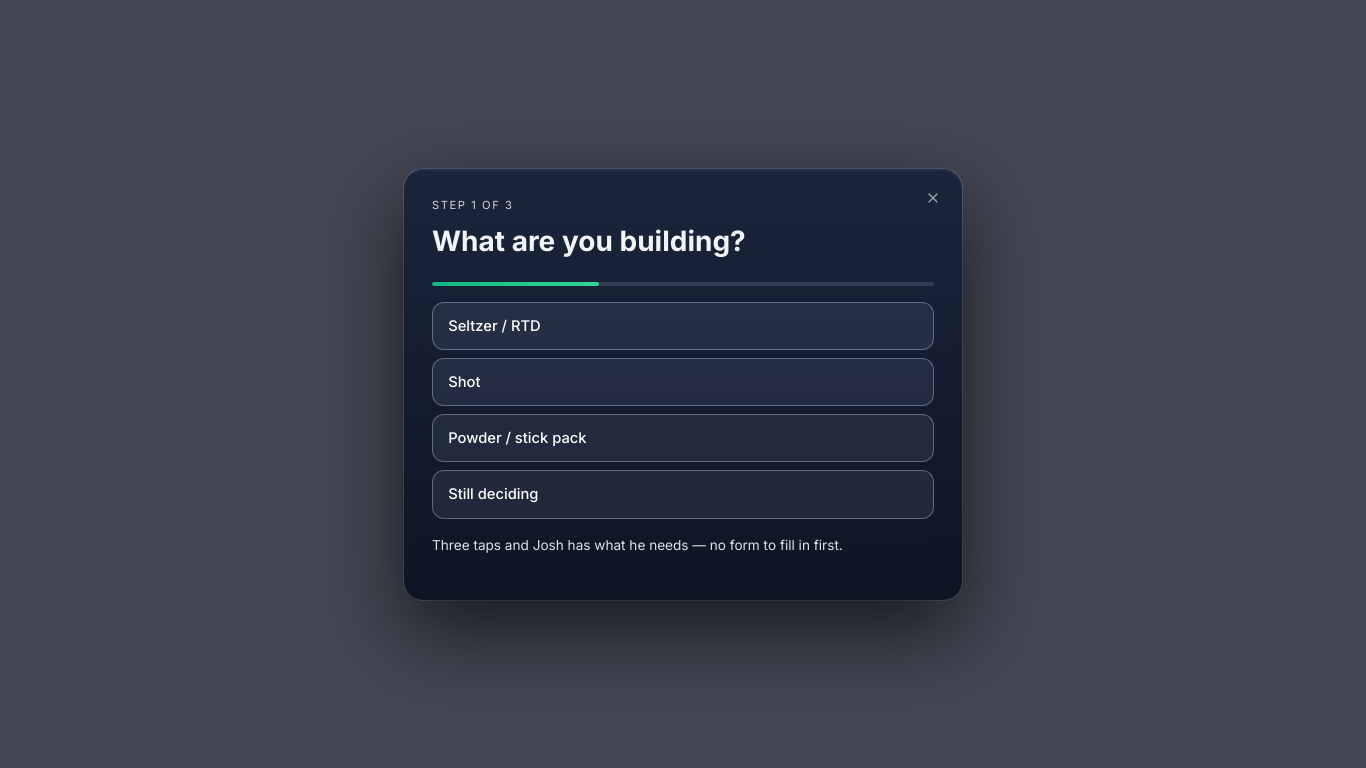
Test: the three-tap quiz › starts clean when reopened
The image size is (1366, 768).
Click the button "Seltzer / RTD" at {"x": 494, "y": 326}, box [432,302,934,350]
Wait 240 ms
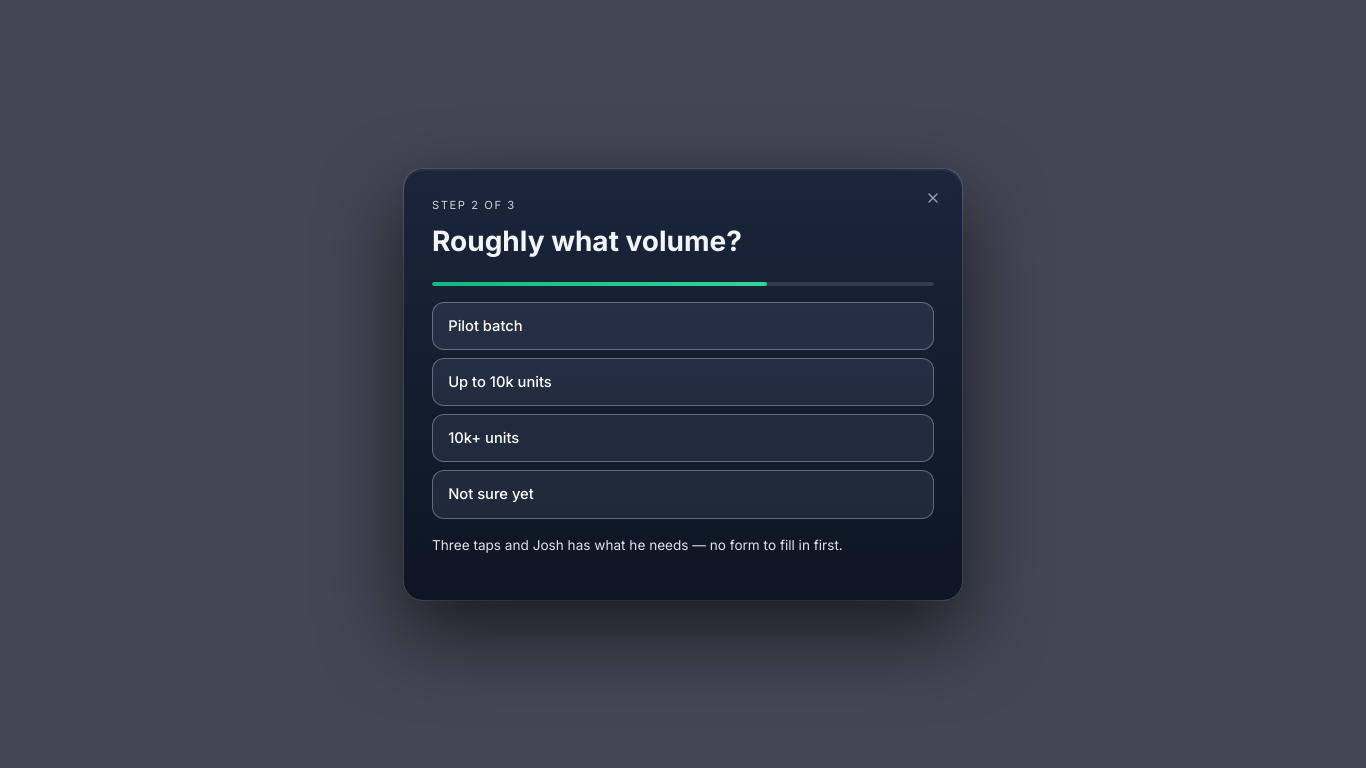
Press Escape
Wait 400 ms
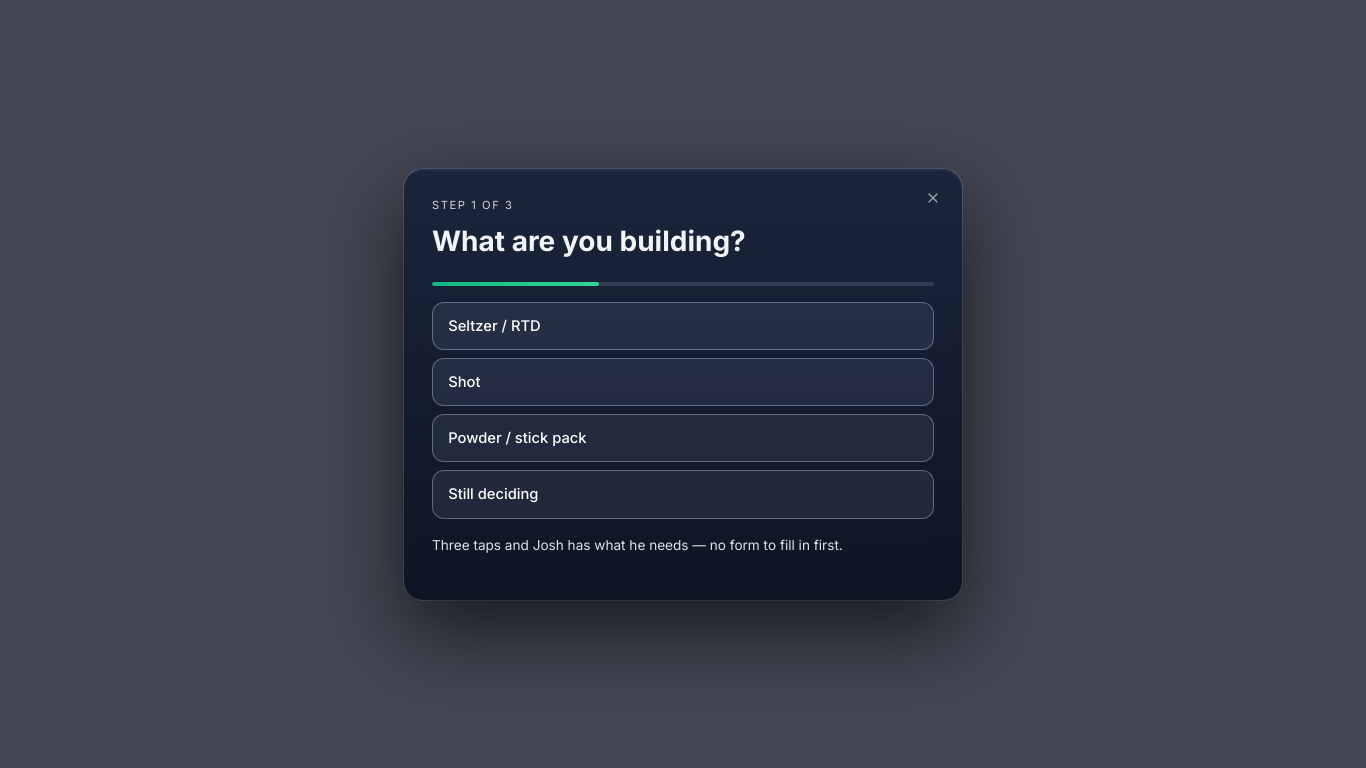
Now the text "Step 1 of 3" is shown, box [432,198,514,212]
